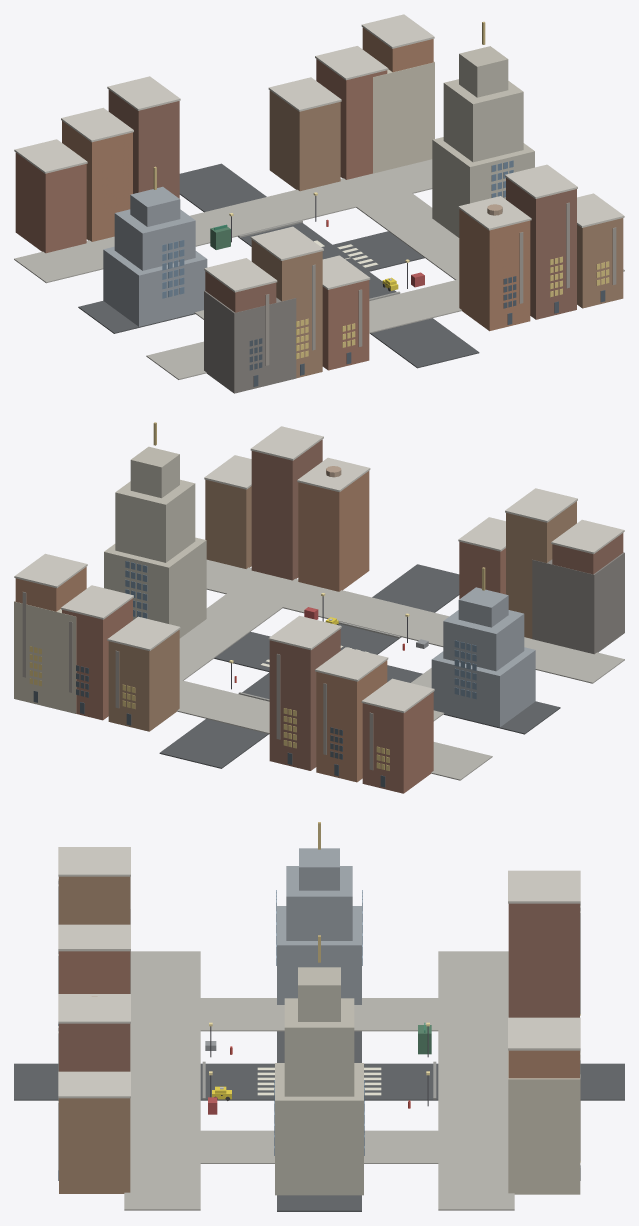
Rendered from manhattan.glb.
3 renders of one model, top to bottom at view 1: azimuth 30°, elevation 25°; view 2: azimuth 150°, elevation 25°; view 3: azimuth 270°, elevation 25°, orthographic. The views are drawn at different scales.
Parts seen in each view (by area): view 1: SidewalkN, CornerSW, BrownstoneS3_body, StreetNS, CornerNE, BrownstoneN0_body, BrownstoneN3_body, BrownstoneS4_body, MidriseW_base, DecoTower_mid, BrownstoneN1_body, SidewalkE (+26 smaller); view 2: SidewalkS, CornerSW, BrownstoneS3_body, StreetNS, BrownstoneS4_body, DecoTower_base, BrownstoneN2_body, MidriseW_base, BrownstoneN0_body, BrownstoneN3_body, CornerNE, DecoTower_mid (+27 smaller); view 3: SidewalkN, SidewalkS, DecoTower_base, CornerNE, StreetNS, BrownstoneN2_body, SidewalkE, BrownstoneS5_body, DecoTower_mid, SidewalkW, MidriseW_base, MidriseW_mid (+13 smaller).
Boxes of the visible parts, x1=… form: SidewalkN: x1=14, y1=159, x2=432, y2=283; CornerSW: x1=204, y1=291, x2=296, y2=393; BrownstoneS3_body: x1=459, y1=209, x2=530, y2=331; StreetNS: x1=179, y1=163, x2=479, y2=368; CornerNE: x1=373, y1=61, x2=434, y2=173; BrownstoneN0_body: x1=15, y1=152, x2=86, y2=253; BrownstoneN3_body: x1=269, y1=90, x2=340, y2=191; BrownstoneS4_body: x1=506, y1=178, x2=576, y2=319; MidriseW_base: x1=103, y1=246, x2=207, y2=326; DecoTower_mid: x1=443, y1=79, x2=523, y2=162; BrownstoneN1_body: x1=62, y1=121, x2=132, y2=241; SidewalkE: x1=342, y1=182, x2=459, y2=279; SidewalkS: x1=206, y1=559, x2=624, y2=683; CornerSW: x1=532, y1=552, x2=624, y2=654; BrownstoneS3_body: x1=298, y1=471, x2=369, y2=591; StreetNS: x1=159, y1=564, x2=459, y2=768; BrownstoneS4_body: x1=251, y1=439, x2=322, y2=580; DecoTower_base: x1=104, y1=537, x2=206, y2=638; BrownstoneN2_body: x1=269, y1=629, x2=340, y2=770; MidriseW_base: x1=431, y1=647, x2=535, y2=727; BrownstoneN0_body: x1=362, y1=692, x2=433, y2=793; BrownstoneN3_body: x1=108, y1=630, x2=179, y2=731; CornerNE: x1=14, y1=601, x2=76, y2=713; DecoTower_mid: x1=115, y1=479, x2=195, y2=562; SidewalkN: x1=438, y1=951, x2=514, y2=1210; SidewalkS: x1=124, y1=951, x2=200, y2=1210; DecoTower_base: x1=275, y1=1063, x2=363, y2=1195; CornerNE: x1=508, y1=1051, x2=580, y2=1194; StreetNS: x1=14, y1=1063, x2=624, y2=1100; BrownstoneN2_body: x1=508, y1=903, x2=579, y2=1017; SidewalkE: x1=166, y1=1130, x2=472, y2=1163; BrownstoneS5_body: x1=59, y1=1098, x2=130, y2=1193; DecoTower_mid: x1=284, y1=998, x2=354, y2=1096; SidewalkW: x1=167, y1=998, x2=471, y2=1031; MidriseW_base: x1=277, y1=906, x2=361, y2=1004; MidriseW_mid: x1=286, y1=866, x2=352, y2=940.
Bounding box in the file's own units: 72 × 31.46 × 72.
